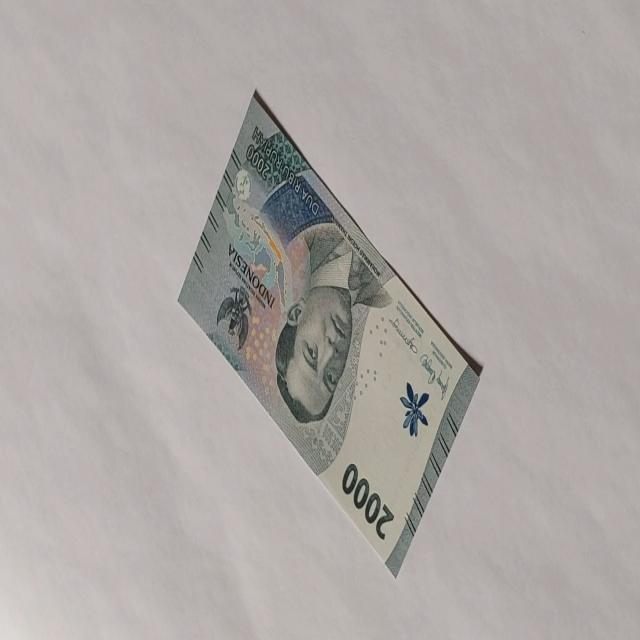dua ribu rupiah: (176, 87, 482, 579), (274, 220, 392, 425)
